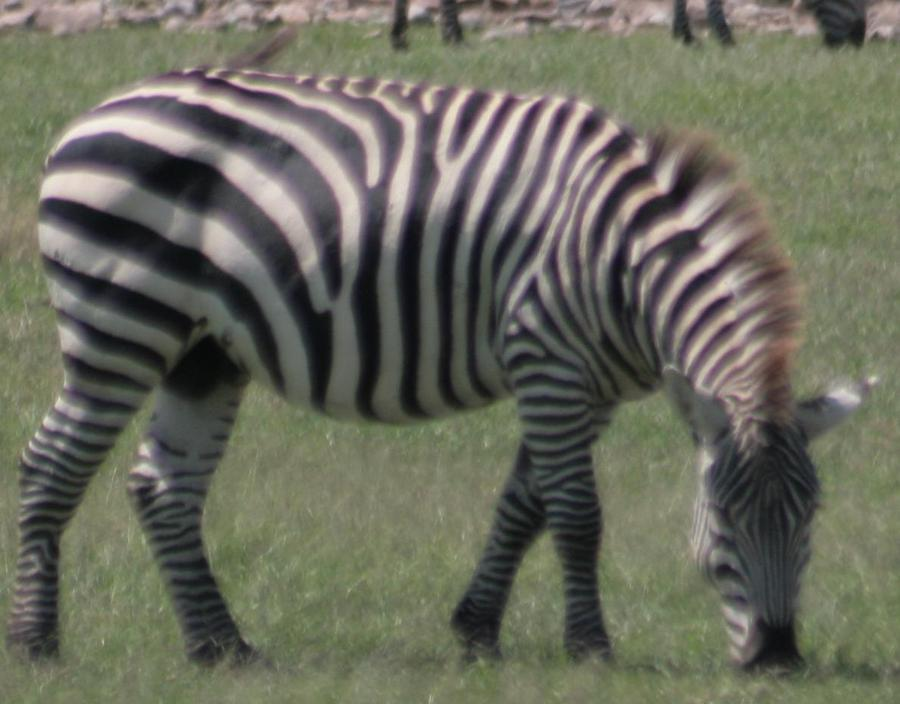zebra_plains: (5, 53, 699, 434)
